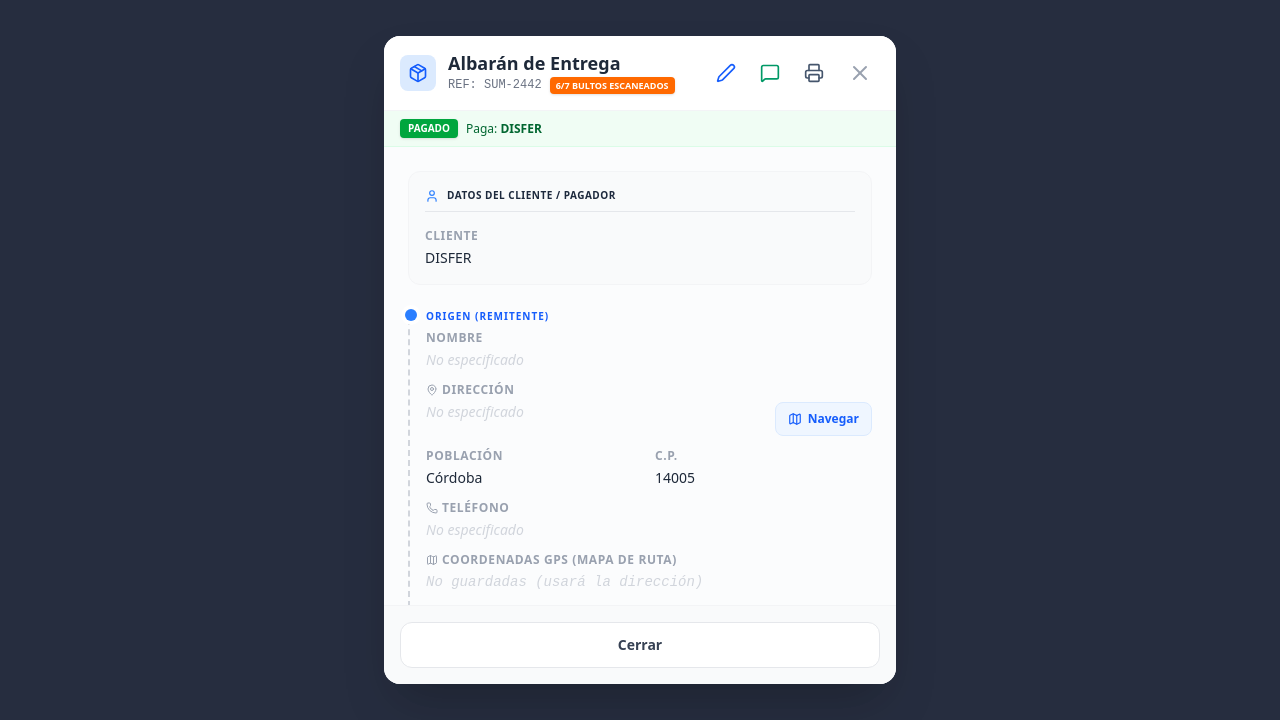
Scenario: ShipmentDetailsModal: completar los bultos escaneados › marcada y guardada, quedan los 7 y la ficha pasa a 7/7
This screenshot has width=1280, height=720.
Click the button titled "Editar".
click(726, 73)  # box [708,55,744,91]
(page scrolled)
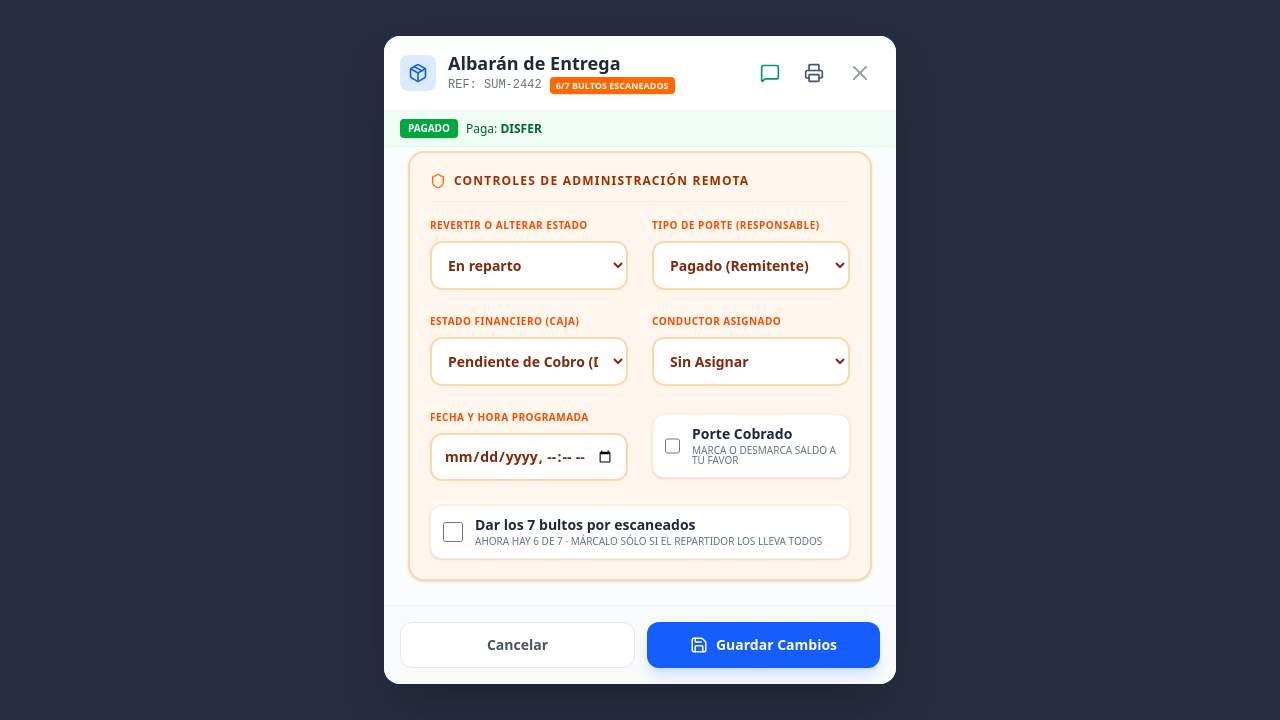
Expected: the text "6/7 BULTOS ESCANEADOS" is shown, [550,76,674,94]
Click the checkbox labelled "Dar los 7 bultos por escaneados".
click(453, 532)  # box [443,522,463,542]
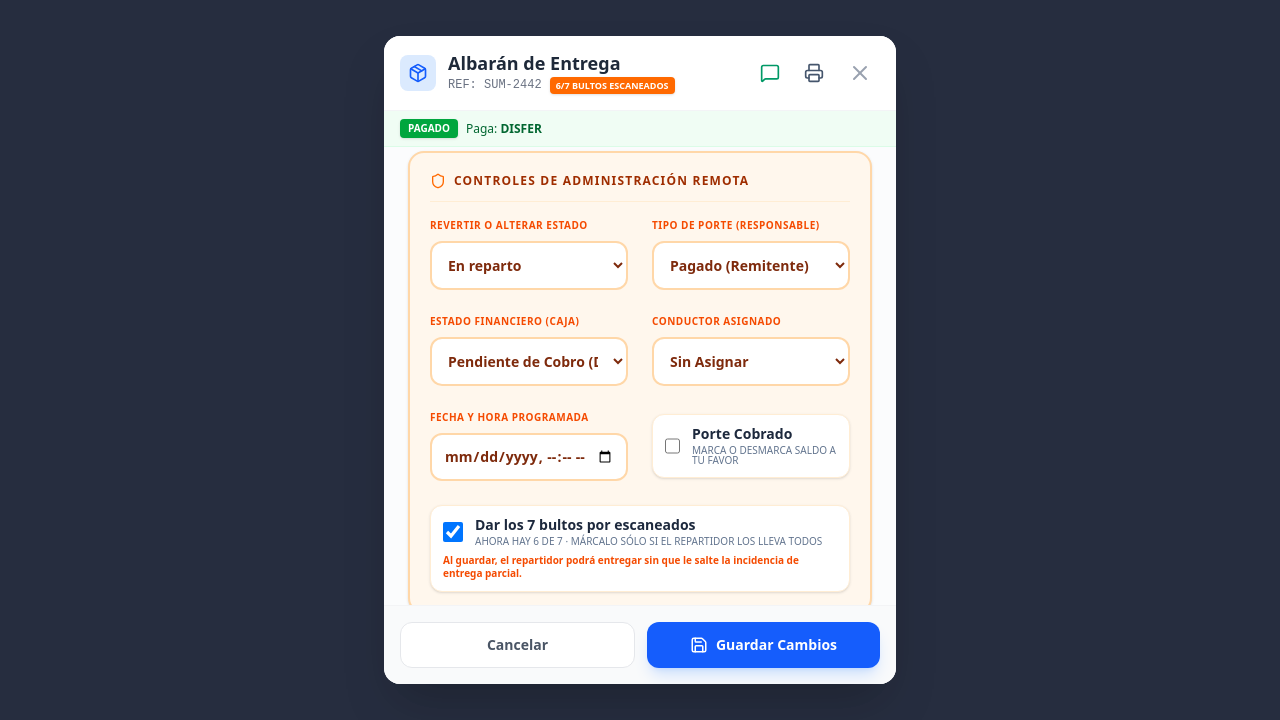
Click the button "Guardar Cambios".
click(764, 645)  # box [647,622,880,668]
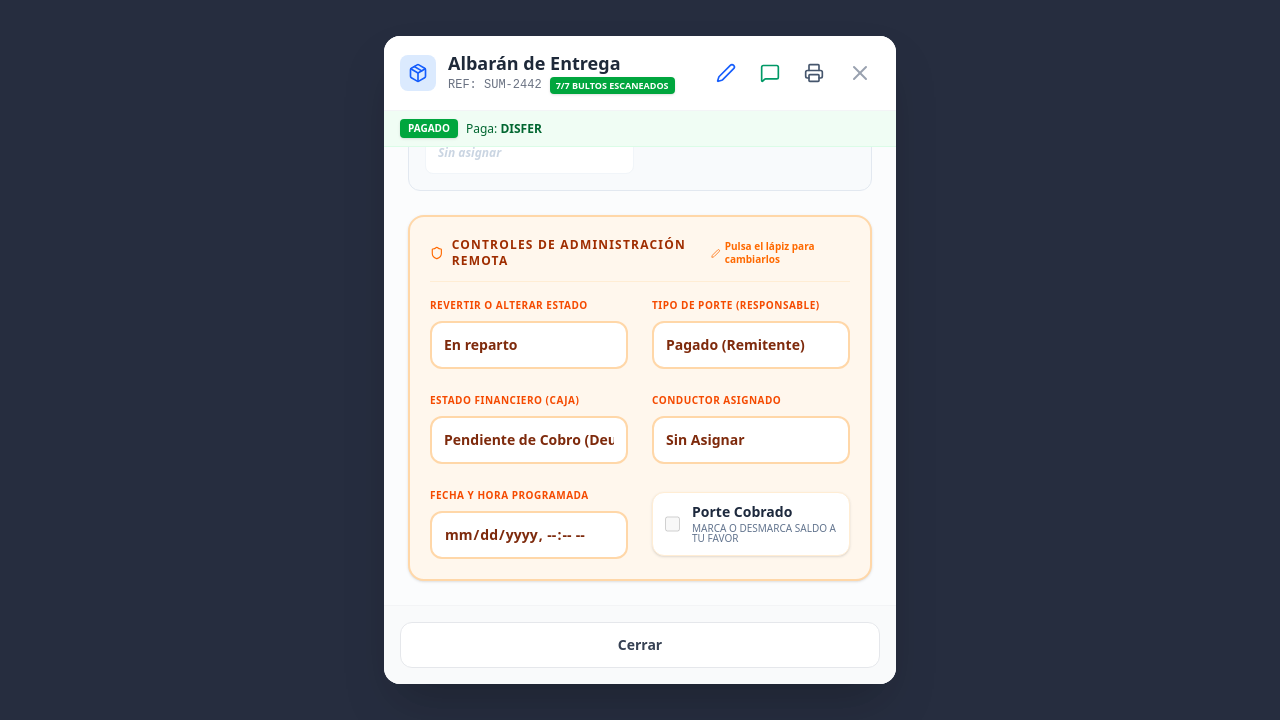
Result: the text "7/7 BULTOS ESCANEADOS" is shown at [550,76,674,94]
